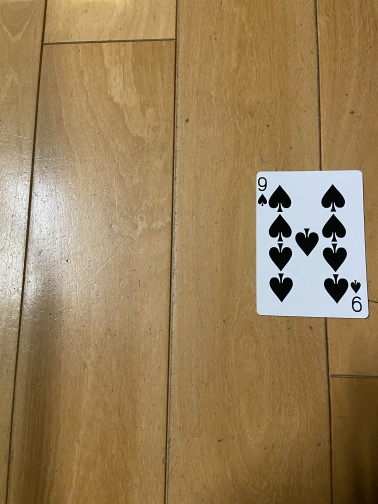nine: (253, 170, 370, 320)
